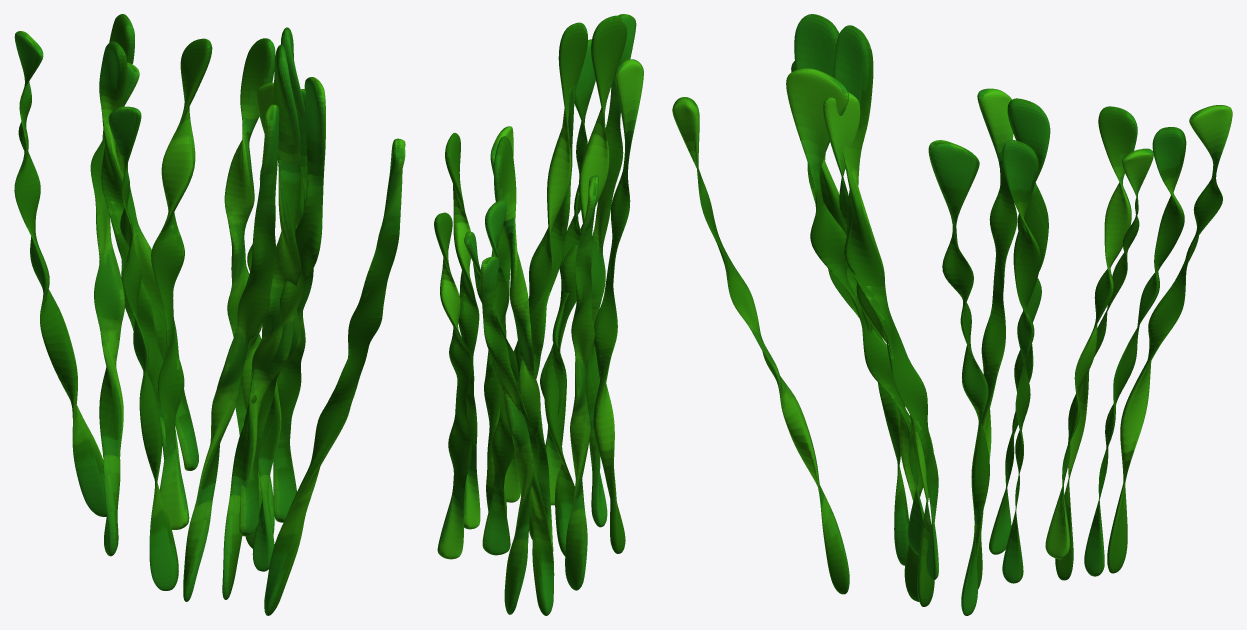
File: seaweed5.glb
3 renders of one model, left to right at view 1: azimuth 30°, elevation 25°; view 2: azimuth 150°, elevation 25°; view 3: azimuth 270°, elevation 25°, orthographic. The views are drawn at different scales.
Parts seen in each view (by area): view 1: Plane.013; view 2: Plane.013; view 3: Plane.013.
Part boxes in pixels (x1,y1,x2,y2): Plane.013: (14, 14, 405, 615); Plane.013: (434, 14, 643, 615); Plane.013: (672, 14, 1232, 615).
Bounding box in the file's own units: 4.21 × 14.37 × 12.26.
1 material, 1 textured.
